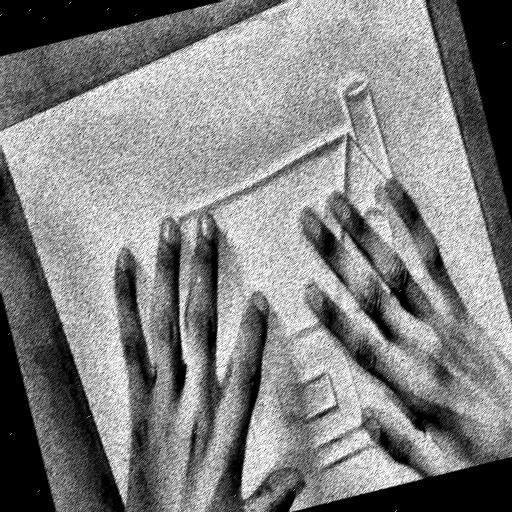house: (76, 45, 512, 512)
top_right: (0, 122, 6, 145)
